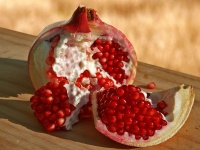pomogranate: (28, 6, 138, 135), (91, 83, 196, 148)
